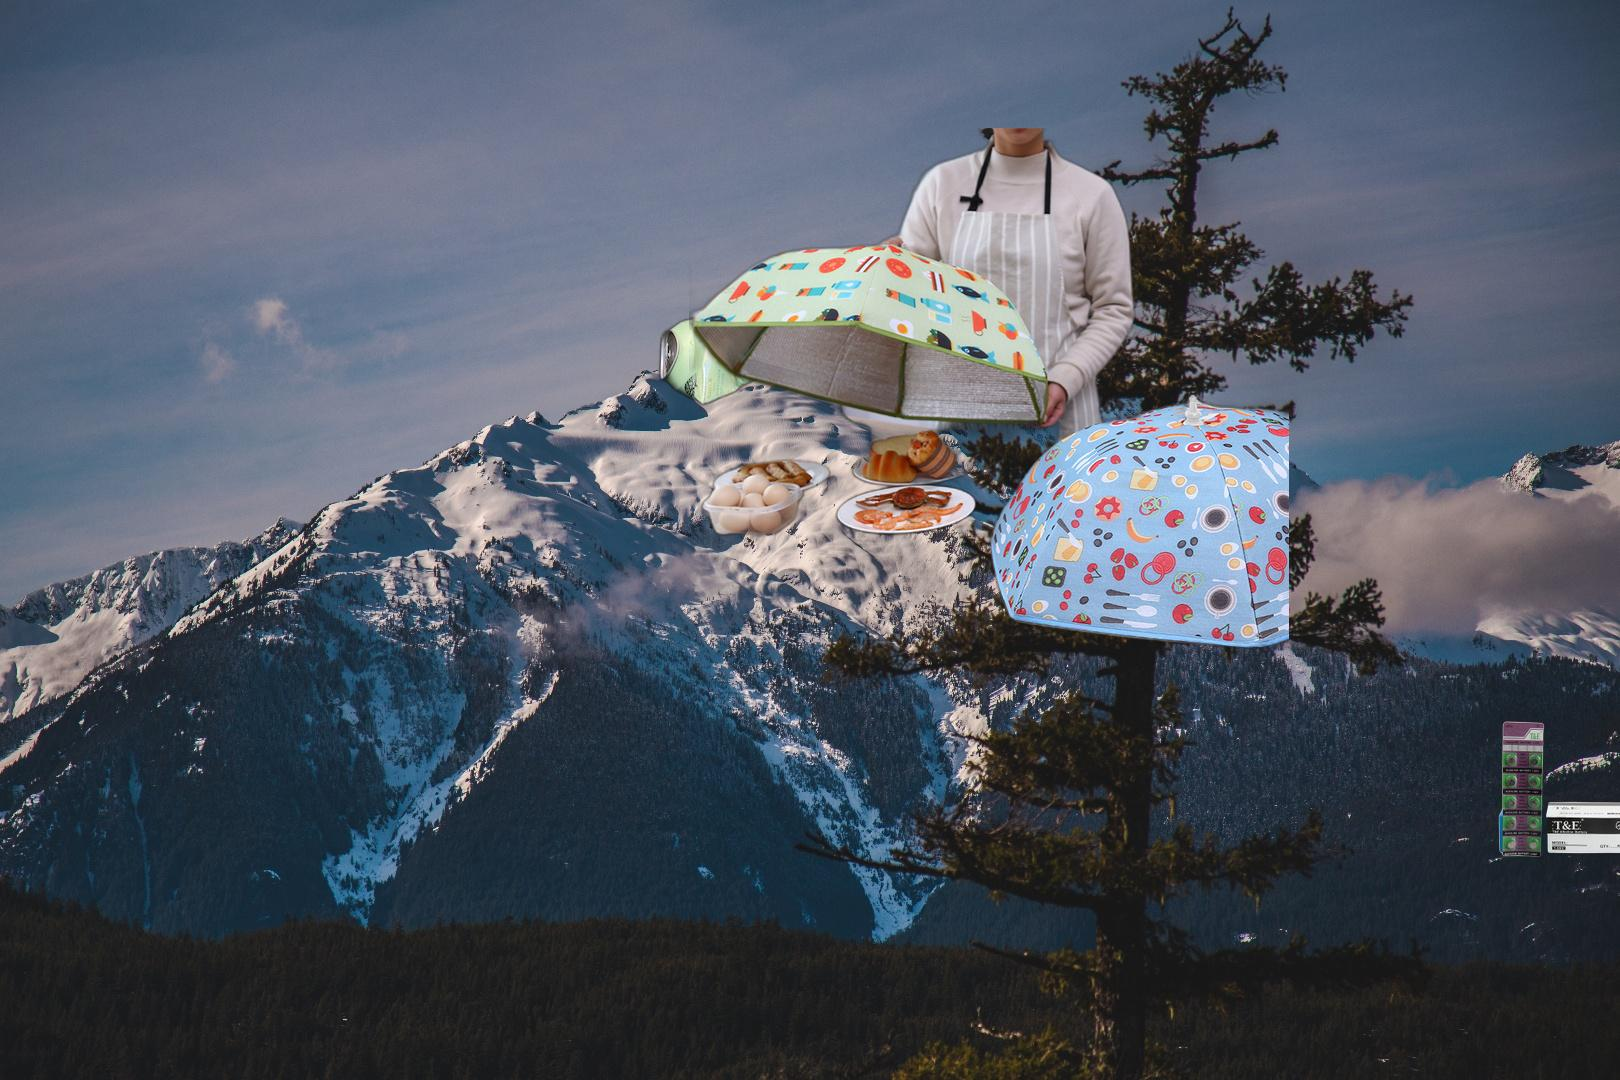battery: (1496, 718, 1620, 859)
biological: (689, 128, 1289, 653)
metal-cans: (655, 309, 1088, 695)
paper-bag: (280, 1035, 580, 1080)
